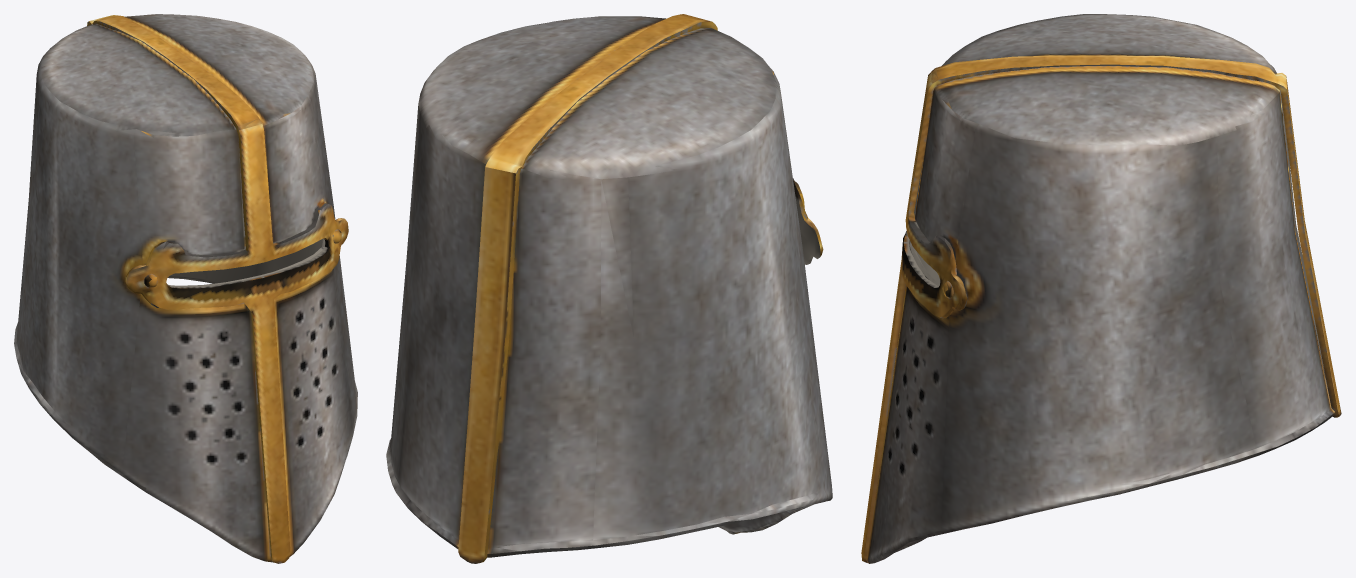
The model's file is item_mm9_10124.glb.
3 views of the same model, side by side, from view 1: azimuth 30°, elevation 25°; view 2: azimuth 150°, elevation 25°; view 3: azimuth 270°, elevation 25° (orthographic). The views are drawn at different scales.
Parts seen in each view (by area): view 1: d10124; view 2: d10124; view 3: d10124.
Part boxes in pixels (box(x1,y1,x2,y2)): d10124: box(14, 14, 357, 563); d10124: box(386, 14, 832, 563); d10124: box(861, 14, 1341, 563).
Bounding box in the file's own units: 0.7056 × 1 × 0.8686.
Materials: 1 (1 with a texture image).
